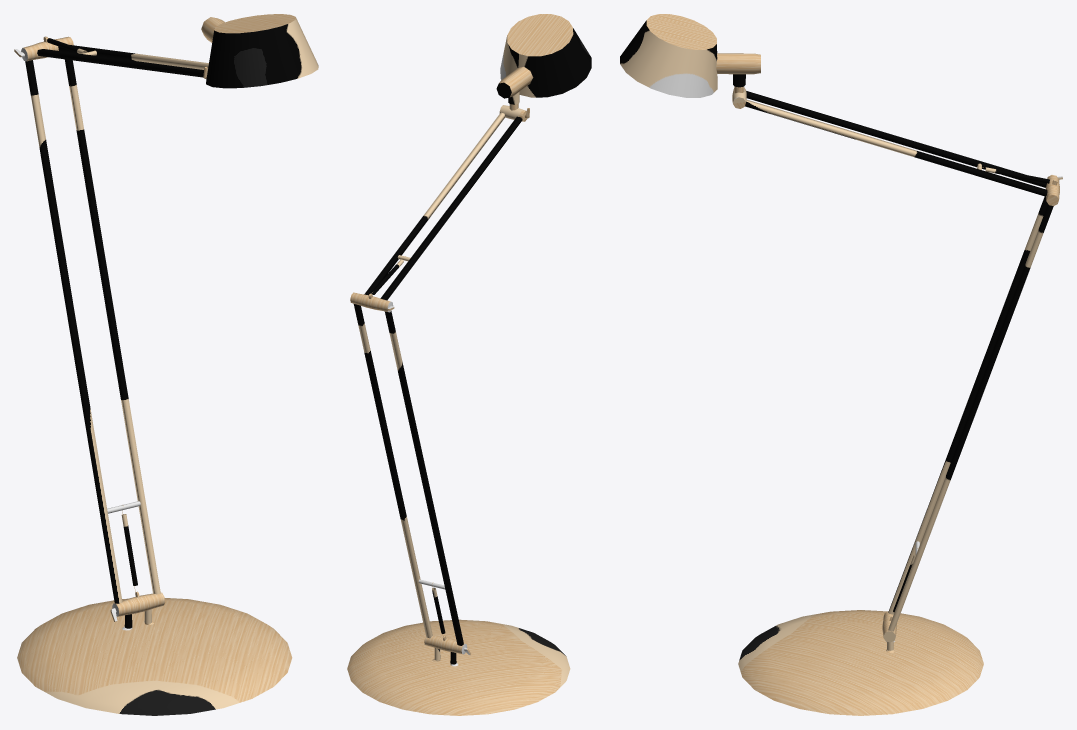
Rendered from Lamp02.FBX.
3 views of the same model, side by side, from view 1: azimuth 30°, elevation 25°; view 2: azimuth 150°, elevation 25°; view 3: azimuth 270°, elevation 25° (orthographic). The views are drawn at different scales.
Visible parts, largest first — view 1: Lamp02; view 2: Lamp02; view 3: Lamp02.
Boxes of the visible parts, x1=… form: Lamp02: x1=14, y1=14, x2=318, y2=715; Lamp02: x1=347, y1=14, x2=591, y2=715; Lamp02: x1=620, y1=14, x2=1062, y2=715.
Bounding box in the file's own units: 10.53 × 30.4 × 18.97.
